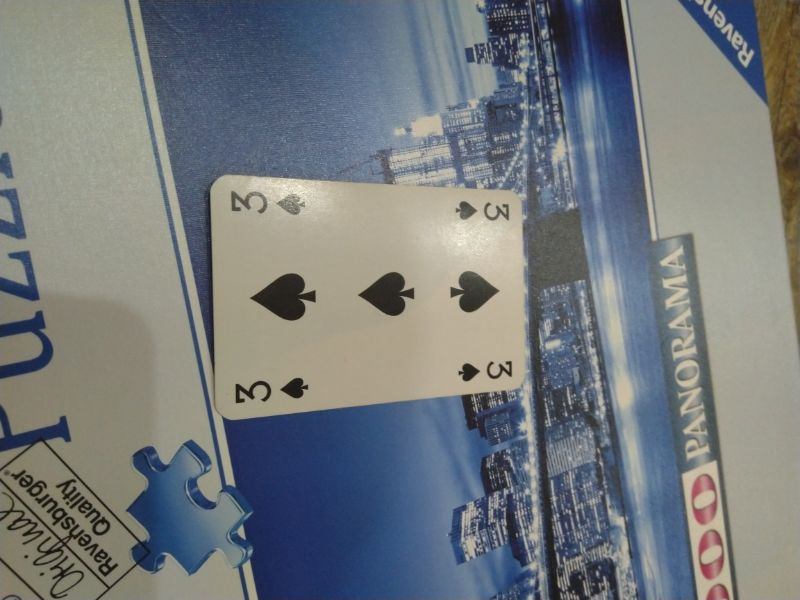3s: (227, 187, 308, 218), (232, 374, 312, 405), (453, 197, 514, 223), (456, 358, 517, 384)
